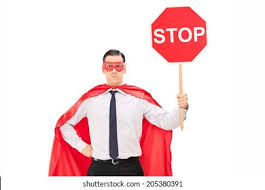stop sign: (151, 5, 208, 63)
